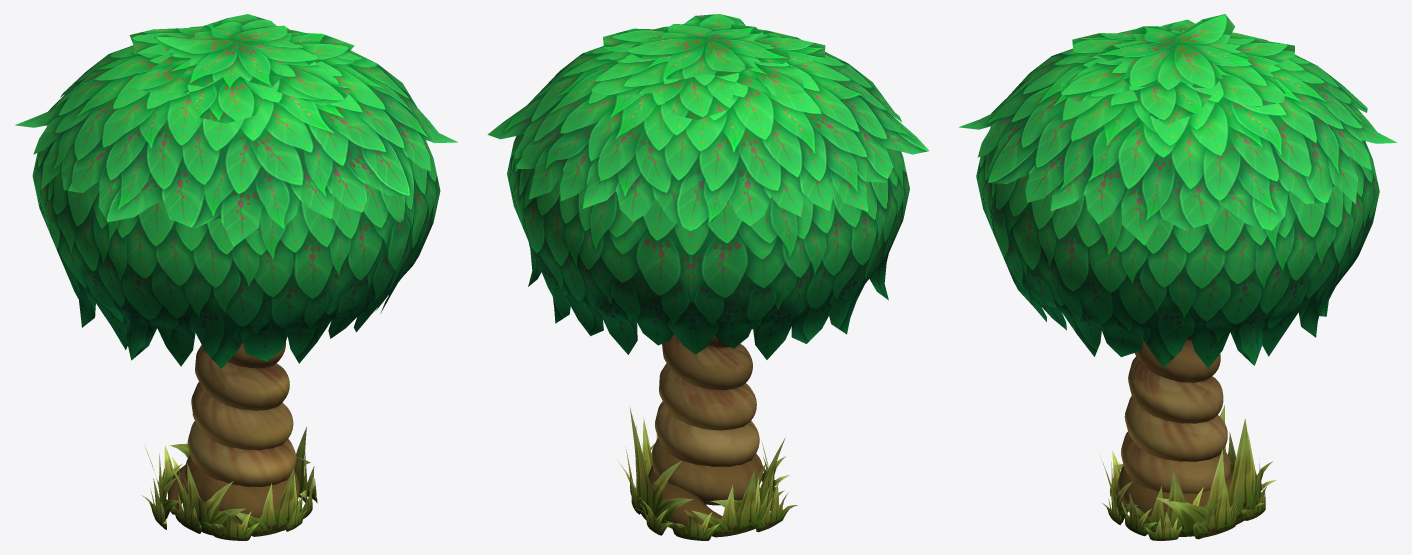
The model's file is tree4.obj.
The picture shows the model from 3 angles, left to right: view 1: azimuth 30°, elevation 25°; view 2: azimuth 150°, elevation 25°; view 3: azimuth 270°, elevation 25°; orthographic projection.
Parts seen in each view (by area): view 1: Cylinder005; view 2: Cylinder005; view 3: Cylinder005.
Boxes of the visible parts, <box> form: Cylinder005: <box>15,14,457,540</box>; Cylinder005: <box>487,14,928,540</box>; Cylinder005: <box>959,14,1397,540</box>.
Size of the model in its own units: 2.52 by 3.2 by 2.71.
1 material, 1 textured.
